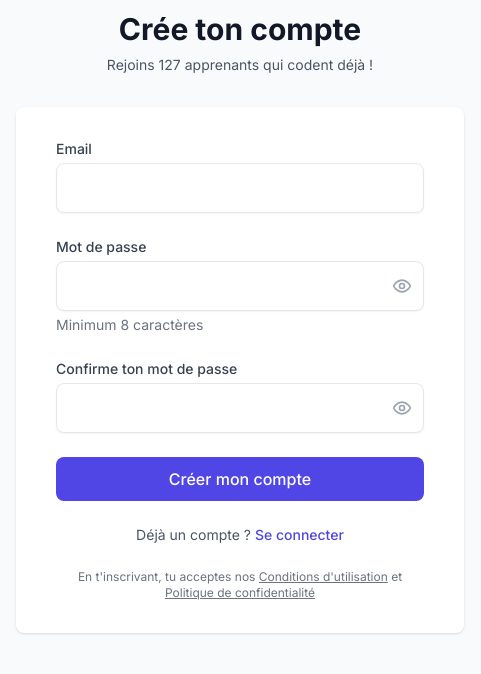
Test: RegisterPage Integration › Validation errors display › should display email validation error on blur
Type "invalid-email" into the field labelled "Email" at point(240, 188), box [56, 163, 424, 213]
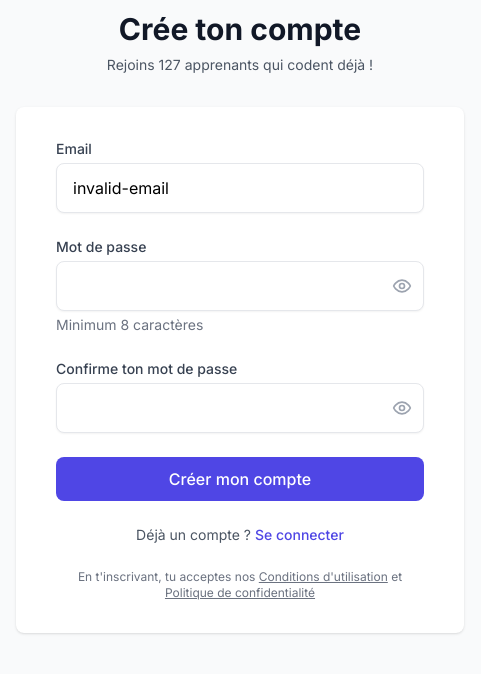
Leave the field labelled "Email", box [56, 163, 424, 213]
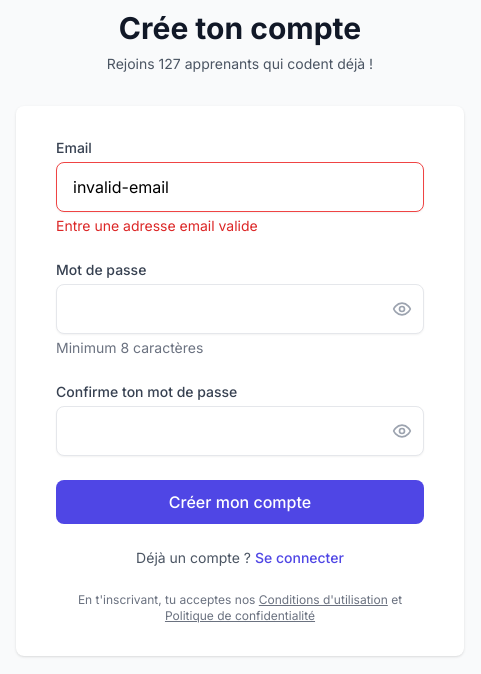
Expected: the text "Entre une adresse email valide" is shown, [56, 217, 258, 234]
